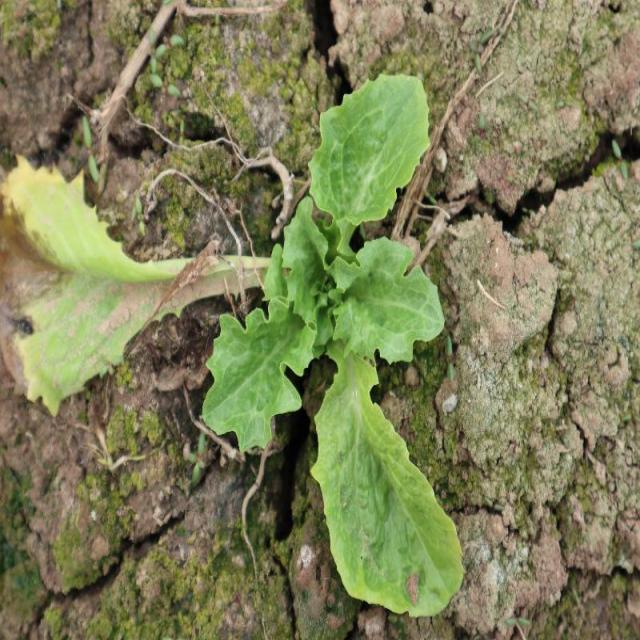crop: (202, 71, 466, 620)
